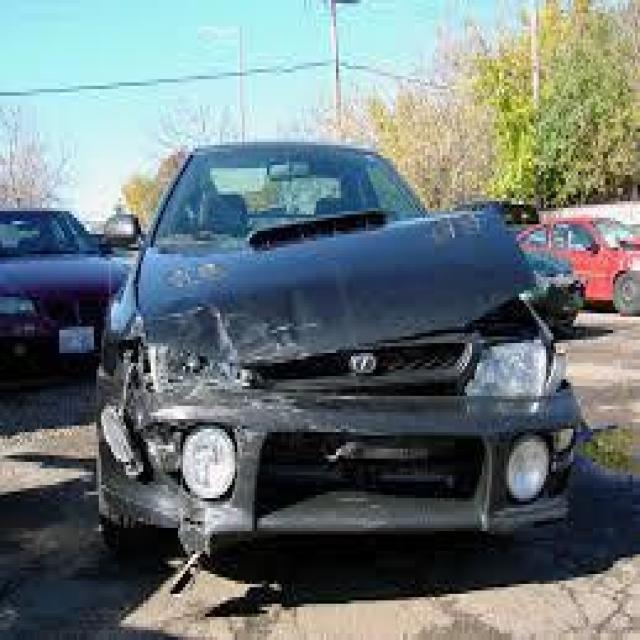damaged: (101, 304, 334, 534), (398, 274, 551, 399)
